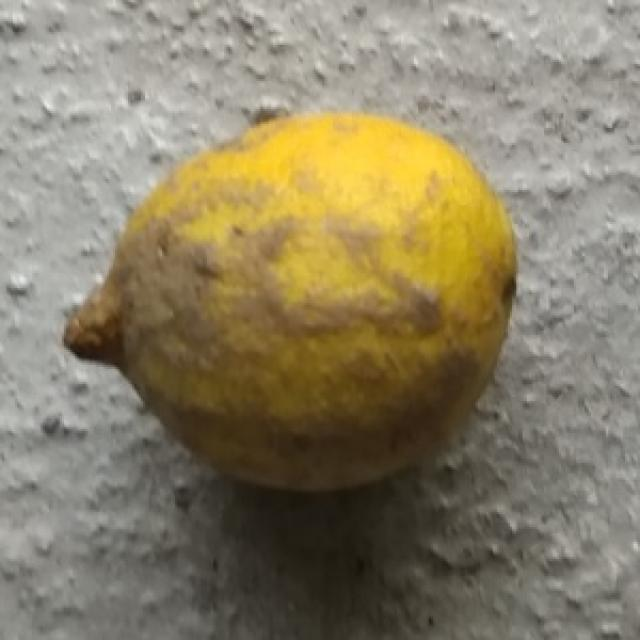overripe: (55, 101, 528, 498)
